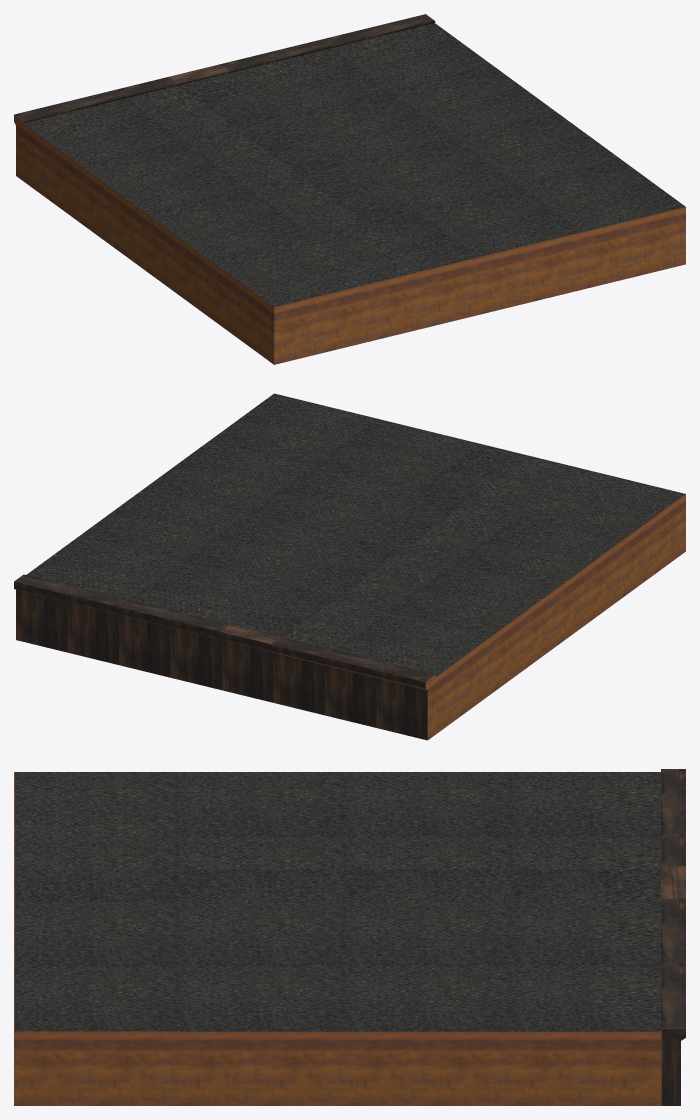
The model's file is SB_Floor_1.fbx.
The picture shows the model from 3 angles, top to bottom: view 1: azimuth 30°, elevation 25°; view 2: azimuth 150°, elevation 25°; view 3: azimuth 270°, elevation 25°; orthographic projection. The views are drawn at different scales.
Visible parts, largest first — view 1: SB_Floor; view 2: SB_Floor; view 3: SB_Floor.
Part boxes in pixels (bbox=[...]): SB_Floor: bbox=[14, 14, 685, 364]; SB_Floor: bbox=[14, 393, 685, 740]; SB_Floor: bbox=[14, 769, 685, 1105].
Bounding box in the file's own units: 1643 × 228 × 1798.
